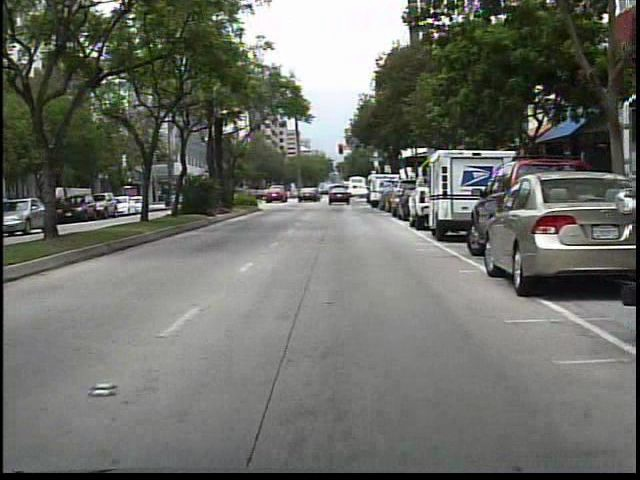person: (326, 183, 340, 203), (287, 184, 294, 204)
